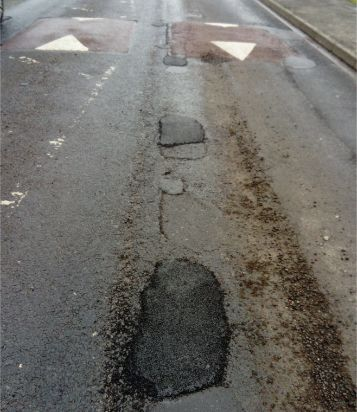pothole: (115, 252, 236, 406), (155, 113, 212, 147)
